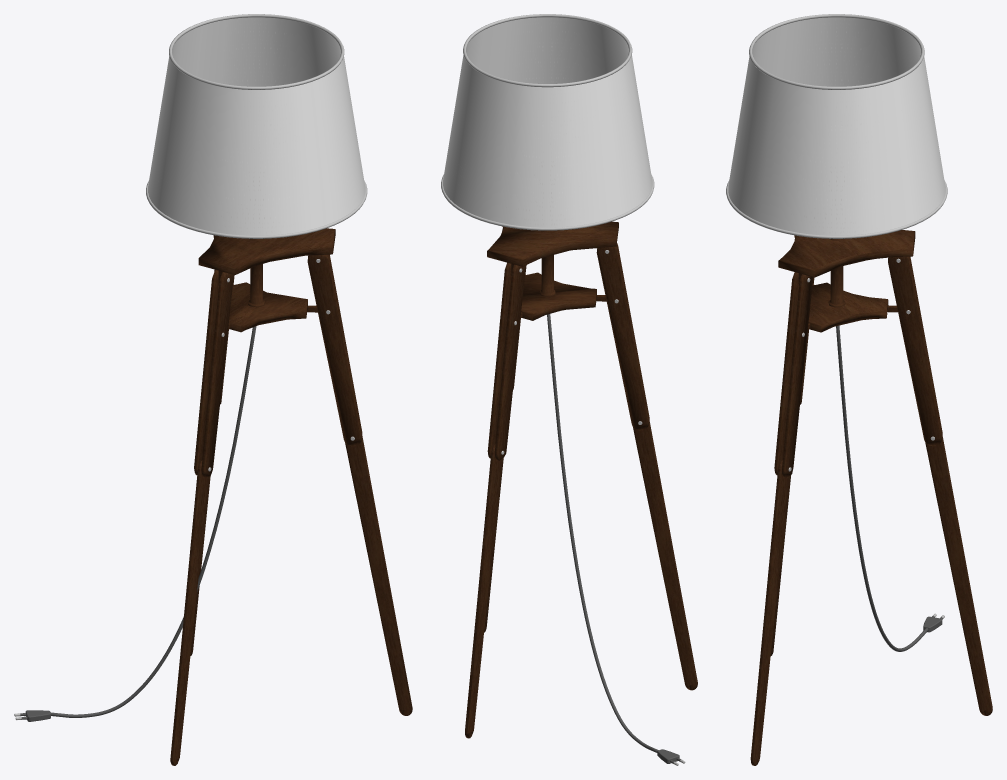
File: floor_lamp.glb
3 renders of one model, left to right at view 1: azimuth 30°, elevation 25°; view 2: azimuth 150°, elevation 25°; view 3: azimuth 270°, elevation 25°, orthographic. The views are drawn at different scales.
Visible parts, largest first — view 1: Object_10, Object_2, Object_5, Object_3; view 2: Object_10, Object_2, Object_5, Object_3; view 3: Object_10, Object_2, Object_5, Object_3.
Boxes of the visible parts, x1,y1,x2,y2 form: Object_10: (148,17,365,235); Object_2: (170,228,412,765); Object_5: (14,14,367,720); Object_3: (20,326,256,721); Object_10: (443,17,652,227); Object_2: (465,221,697,738); Object_5: (441,14,685,765); Object_3: (547,314,681,763); Object_10: (728,17,945,235); Object_2: (750,230,992,765); Object_5: (726,14,947,618); Object_3: (836,325,942,651).
Size of the model in its own units: 800 by 1657 by 605.
5 materials, 2 textured.
